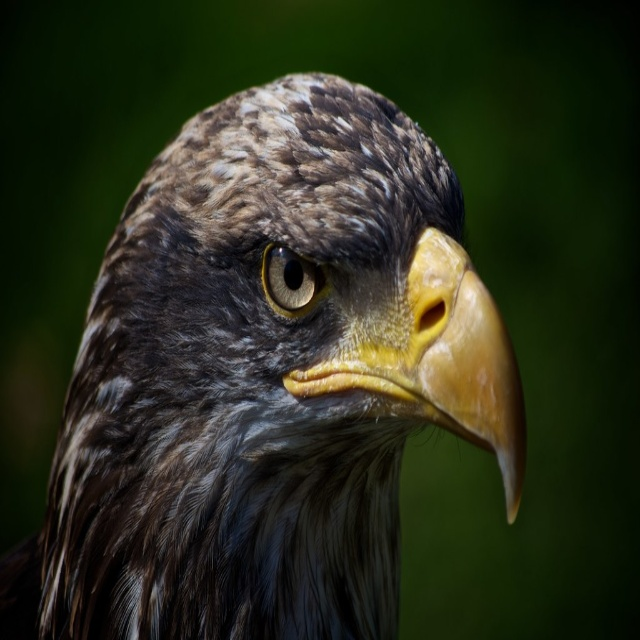Eagle: (30, 69, 527, 639)
